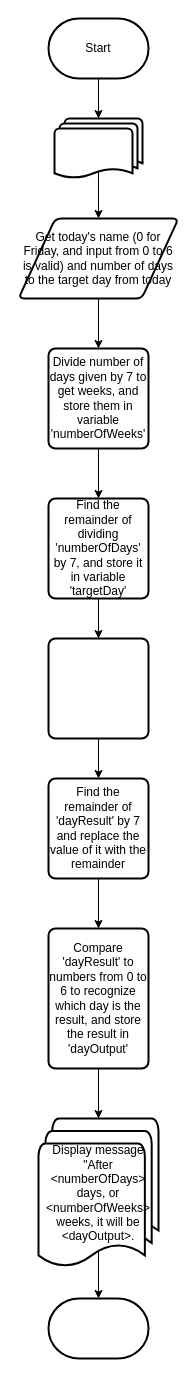
Image size: 196x1376. Some labels were removed from this diagram. The box of each missing label's shape, as (x1, y1, x2, y2) in pixels:
Add 'targetDay' to the day input (from 0 to 6), and store in 'dayResult': (47, 637, 149, 739)
Display program instructions: (53, 117, 143, 179)
End: (47, 1297, 149, 1359)
